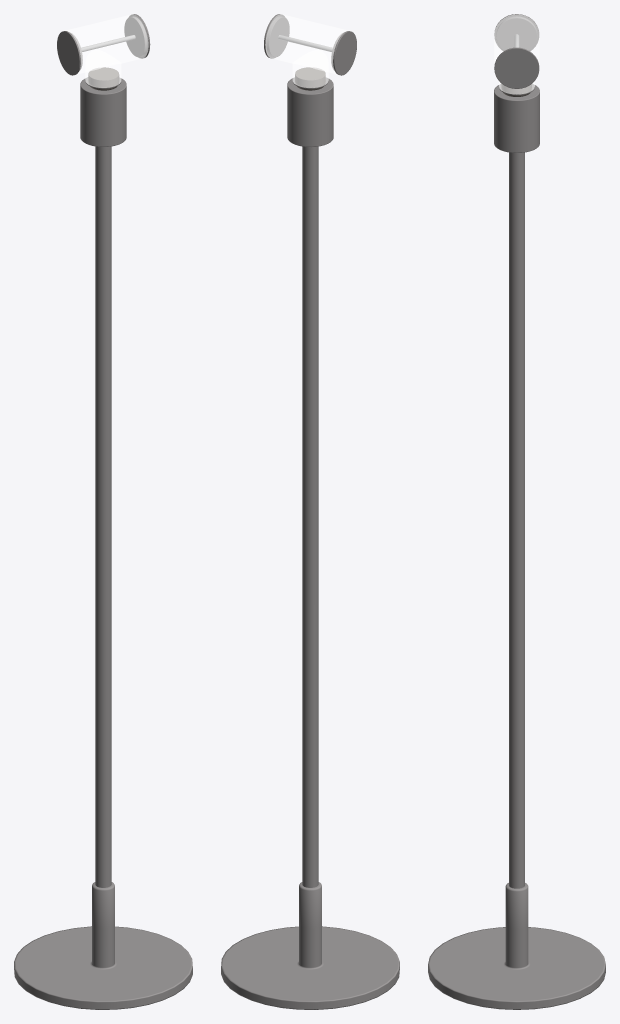
File: BF_formbulb2.glb
3 renders of one model, left to right at view 1: azimuth 30°, elevation 25°; view 2: azimuth 150°, elevation 25°; view 3: azimuth 270°, elevation 25°, orthographic.
Visible parts, largest first — view 1: BF_formbulb2.model, BF_formbulb2glass.model; view 2: BF_formbulb2.model, BF_formbulb2glass.model; view 3: BF_formbulb2.model, BF_formbulb2glass.model.
Boxes of the visible parts, left/top/right/bottom form: BF_formbulb2.model: left=14, top=14, right=192, bottom=1009; BF_formbulb2glass.model: left=65, top=14, right=148, bottom=87; BF_formbulb2.model: left=221, top=14, right=399, bottom=1009; BF_formbulb2glass.model: left=265, top=14, right=348, bottom=87; BF_formbulb2.model: left=428, top=14, right=605, bottom=1009; BF_formbulb2glass.model: left=494, top=14, right=539, bottom=94.
Size of the model in its own units: 0.1955 by 1.14 by 0.1955.
Materials: 2 (2 with a texture image).
